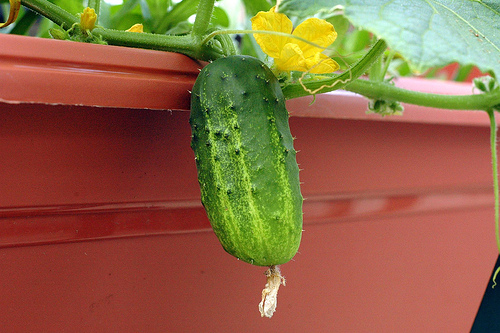cucumber: (188, 54, 304, 318)
